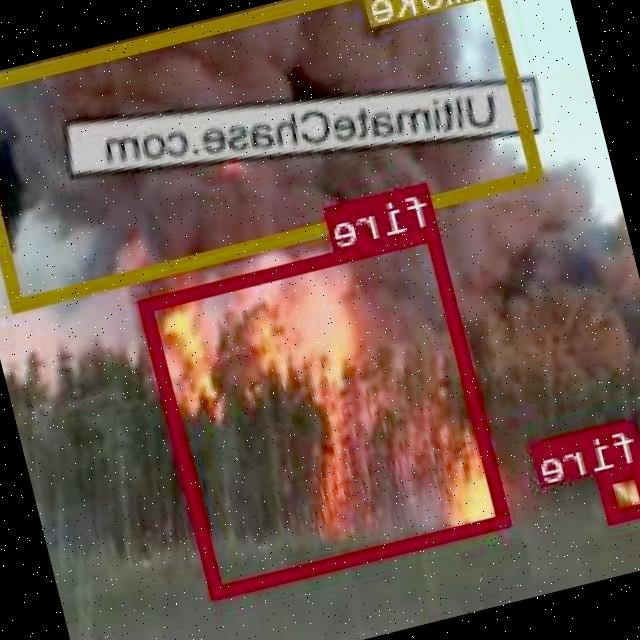fire: (139, 224, 513, 598), (598, 459, 640, 521)
smoke: (0, 0, 545, 308)
